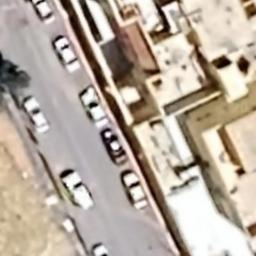SUV: (64, 171, 94, 210)
sedan: (100, 127, 134, 168), (78, 89, 112, 127), (20, 97, 51, 133), (121, 172, 150, 210), (52, 37, 82, 73), (30, 0, 56, 25)
unknown: (92, 243, 110, 256)
